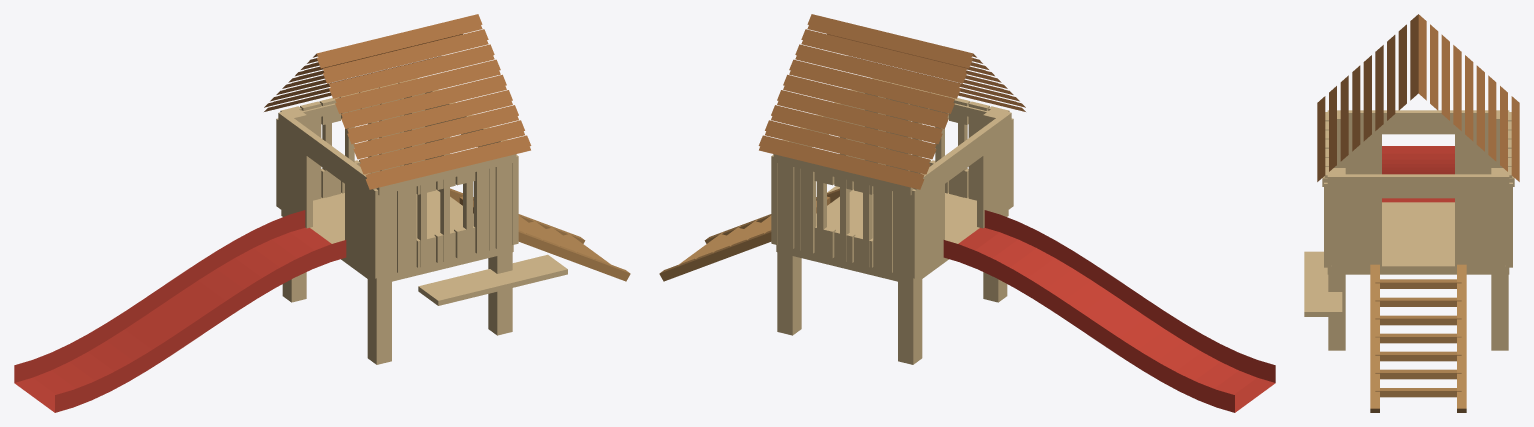
3 renders of one model, left to right at view 1: azimuth 30°, elevation 25°; view 2: azimuth 150°, elevation 25°; view 3: azimuth 270°, elevation 25°, orthographic. The views are drawn at different scales.
Parts seen in each view (by area): view 1: SW-Y301; view 2: SW-Y301; view 3: SW-Y301.
Part boxes in pixels (x1,y1,x2,y2): SW-Y301: (14,14,630,412); SW-Y301: (659,14,1275,412); SW-Y301: (1304,14,1519,412).
Size of the model in its own units: 4.03 by 1.89 by 1.38.
